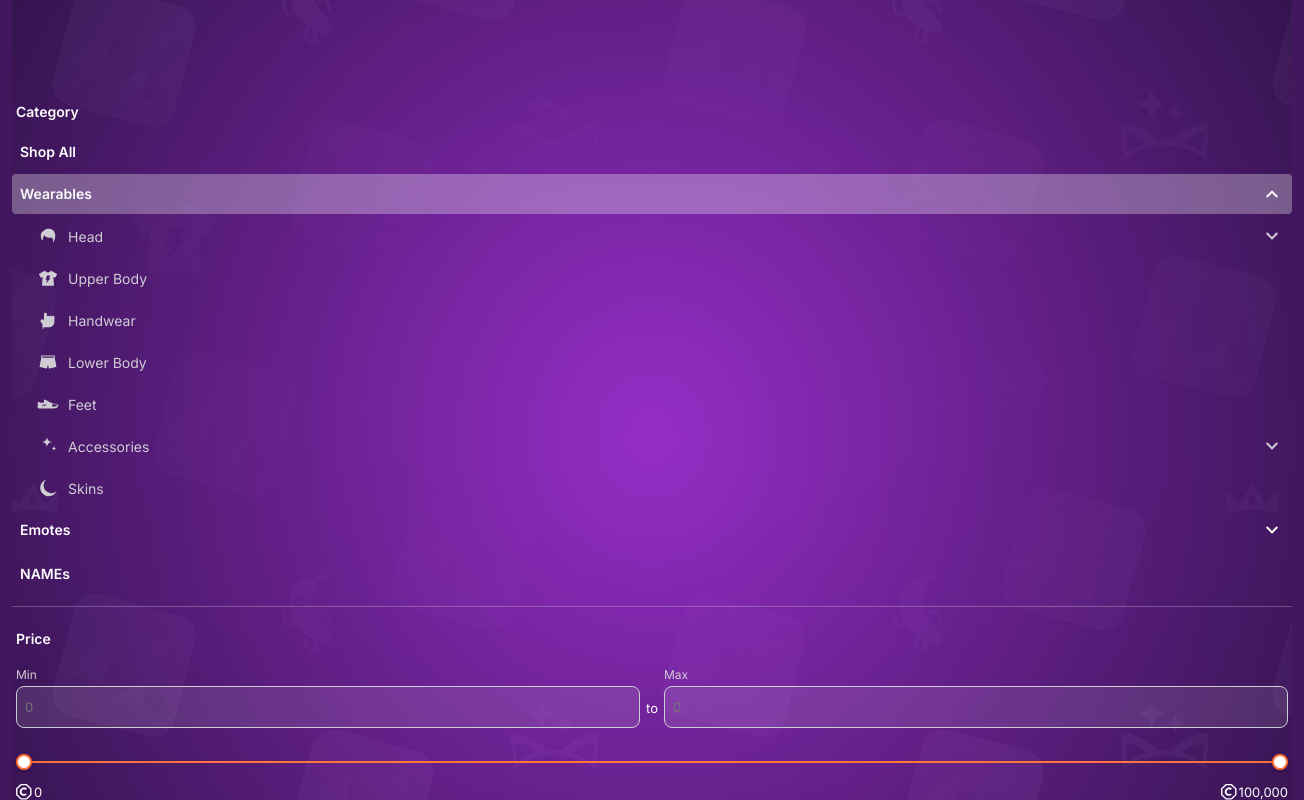
Test: Filters › when a price thumb is dragged › should still move the thumb and the Max box while the drag is in flight
The image size is (1304, 800).
Set the slider named "max" to "120" at (861, 762), box [16, 752, 1288, 772]
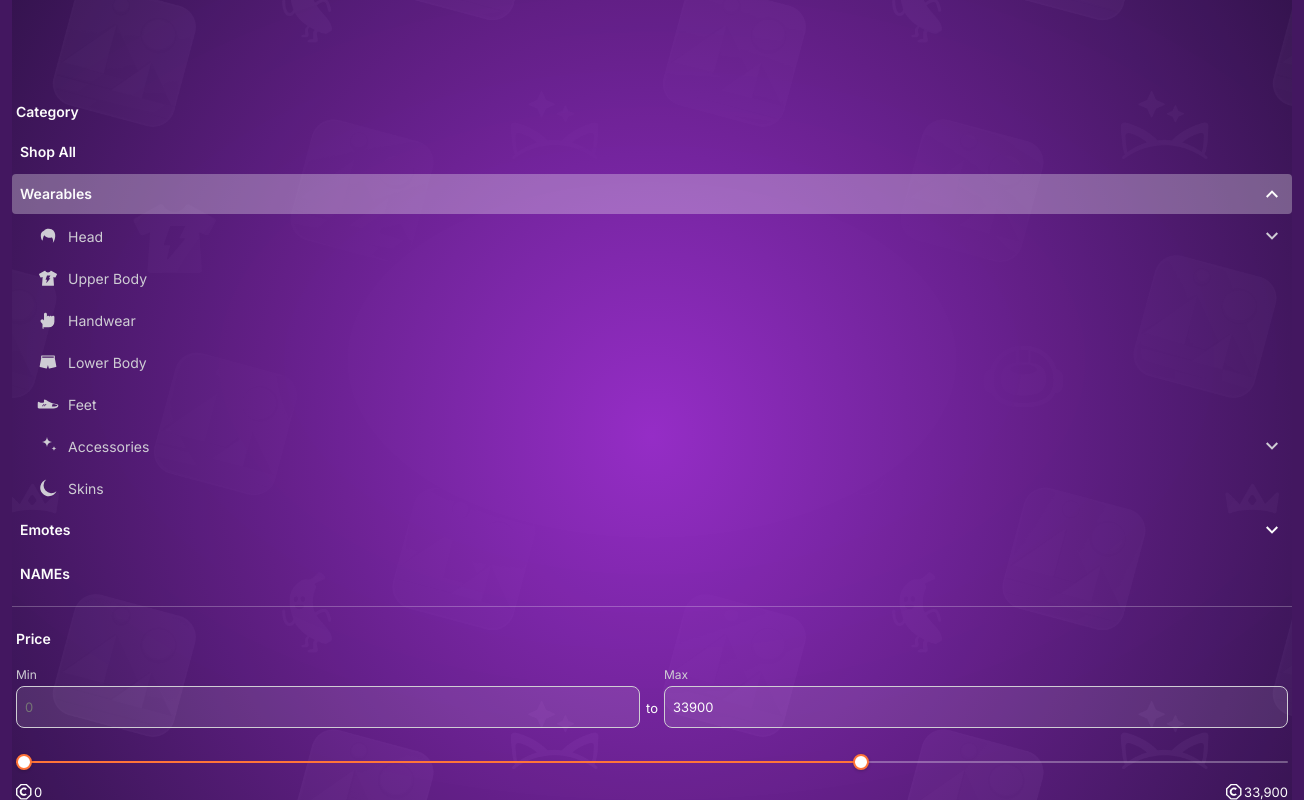
Expected: the number field labelled "Max" is not empty, [673, 699, 1279, 715]
